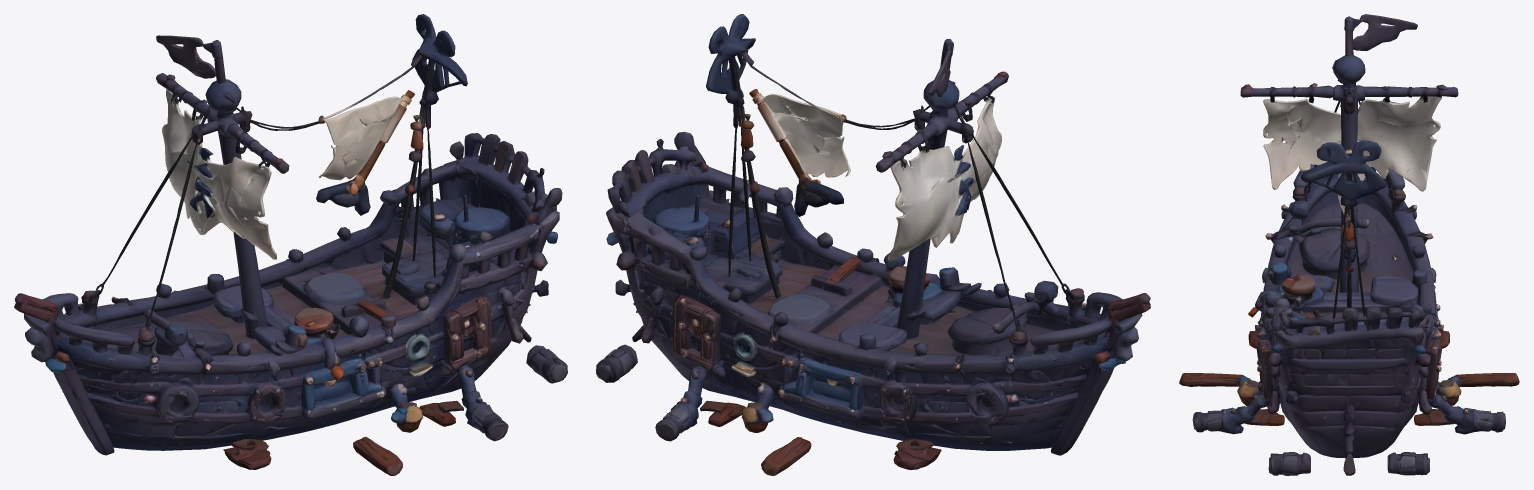
File: barco-restos.glb
3 views of the same model, side by side, from view 1: azimuth 30°, elevation 25°; view 2: azimuth 150°, elevation 25°; view 3: azimuth 270°, elevation 25° (orthographic). The views are drawn at different scales.
Bounding box in the file's own units: 0.9725 × 0.6924 × 0.6429.
Materials: 1 (1 with a texture image).
